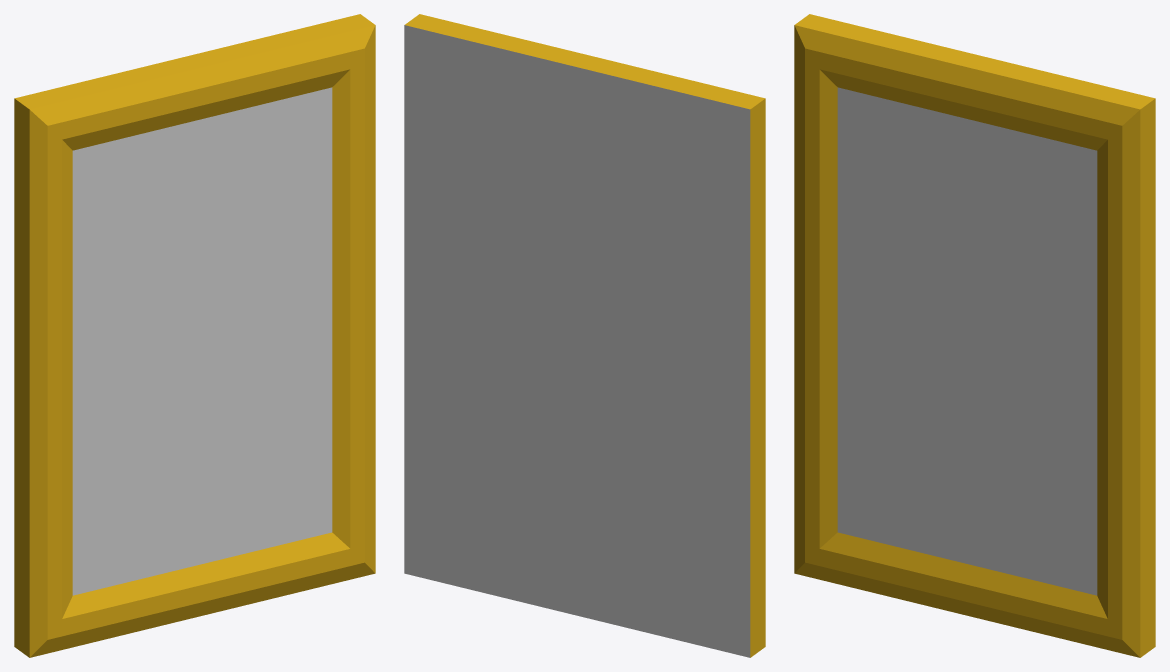
The model's file is CTS_E_Picture.fbx.
The picture shows the model from 3 angles, left to right: view 1: azimuth 30°, elevation 25°; view 2: azimuth 150°, elevation 25°; view 3: azimuth 330°, elevation 25°; orthographic projection.
Parts seen in each view (by area): view 1: CTS_E_Picture; view 2: CTS_E_Picture; view 3: CTS_E_Picture.
Boxes of the visible parts, x1,y1,x2,y2 form: CTS_E_Picture: (14, 14, 375, 657); CTS_E_Picture: (404, 14, 765, 657); CTS_E_Picture: (794, 14, 1155, 657).
Bounding box in the file's own units: 99 × 150 × 9.32.
